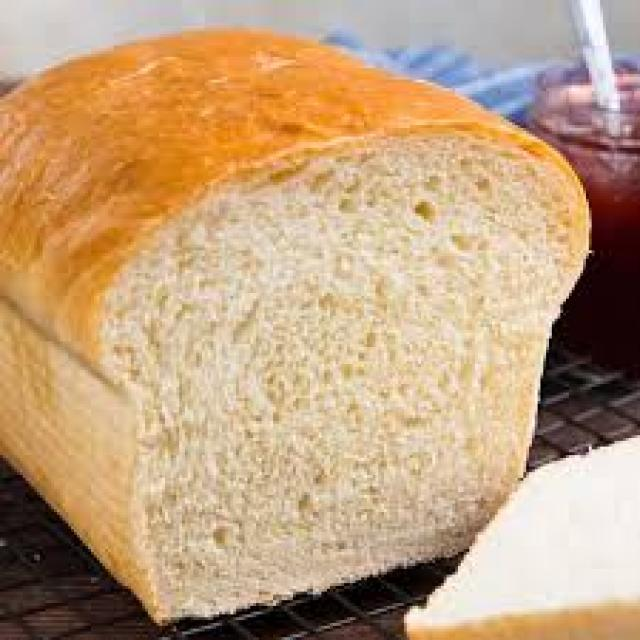organic waste: (0, 20, 589, 617), (398, 432, 637, 638)
